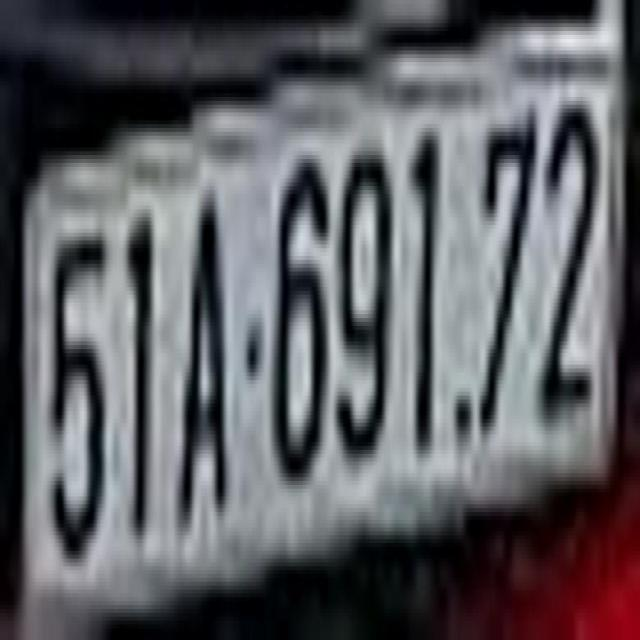1: (405, 124, 440, 458), (126, 198, 158, 554)
2: (546, 70, 602, 423)
5: (54, 206, 112, 558)
6: (278, 152, 328, 496)
7: (479, 90, 538, 434)
9: (340, 112, 394, 485)
A: (177, 167, 229, 520)
